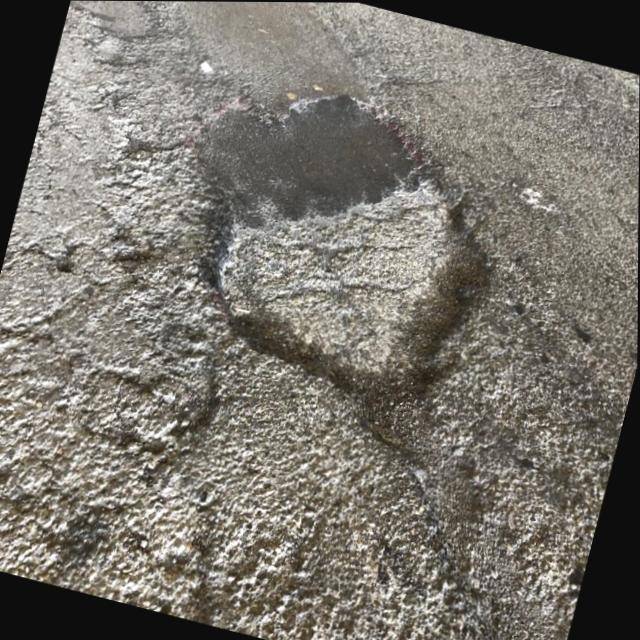Pothole: (196, 94, 496, 450)
